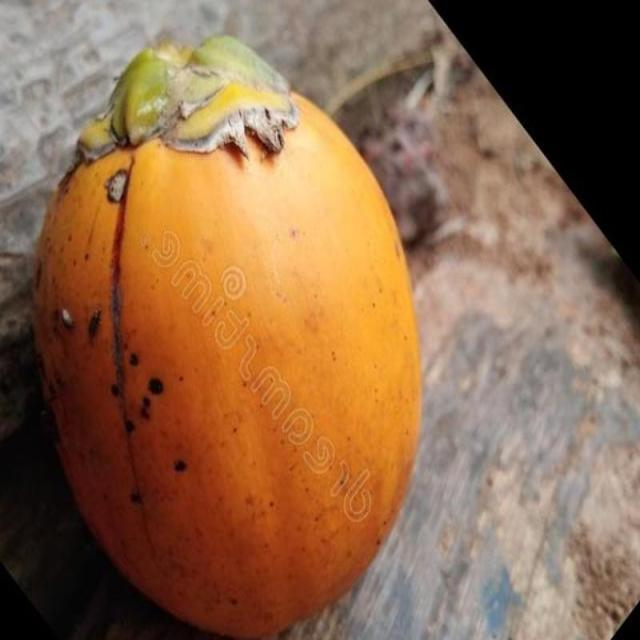good: (30, 36, 422, 639)
